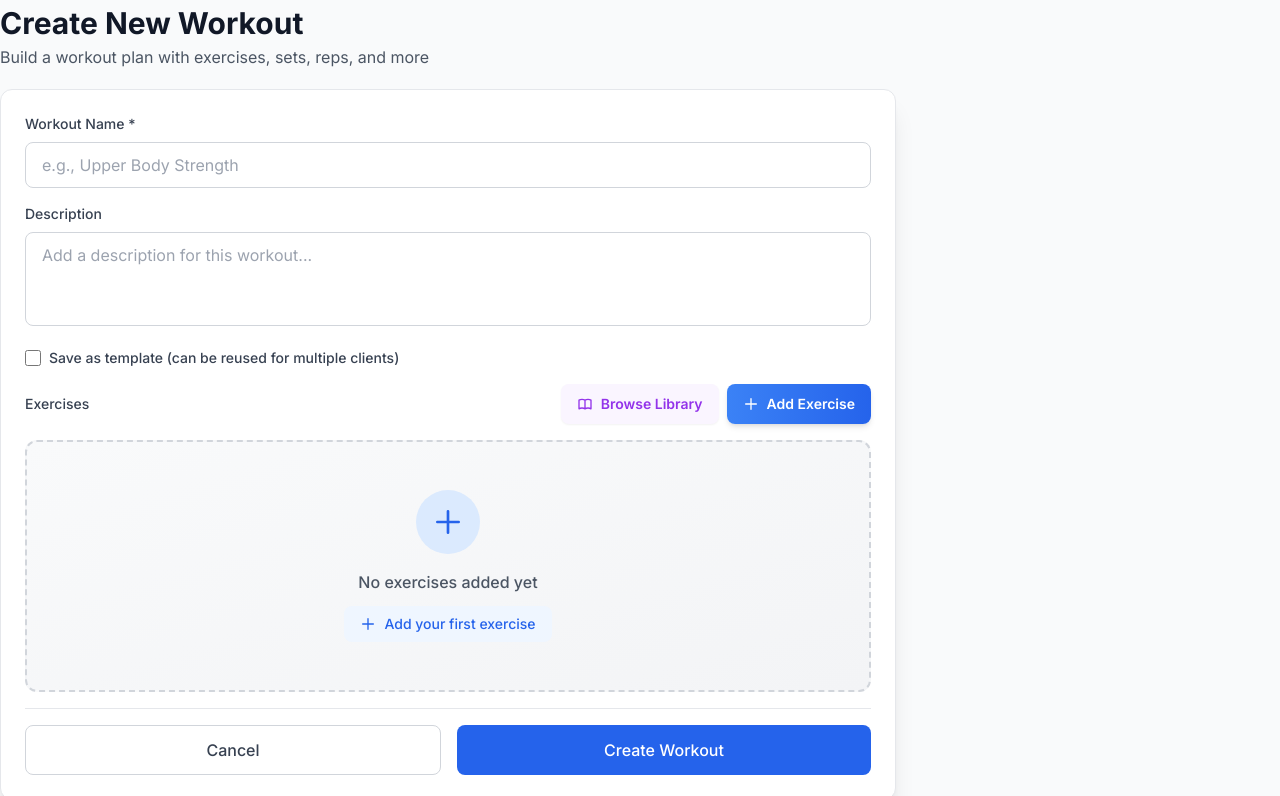
Scenario: NewWorkoutForm › should require workout name and show validation error
(page scrolled)
Check: the heading "Create New Workout" is shown, box [0,5,303,41]
Check: the field labelled "Workout Name *" is shown, box [25,142,871,188]
# Test validation
Step 1. Click the button "Create Workout" → point(664, 750), box [457,725,871,775]
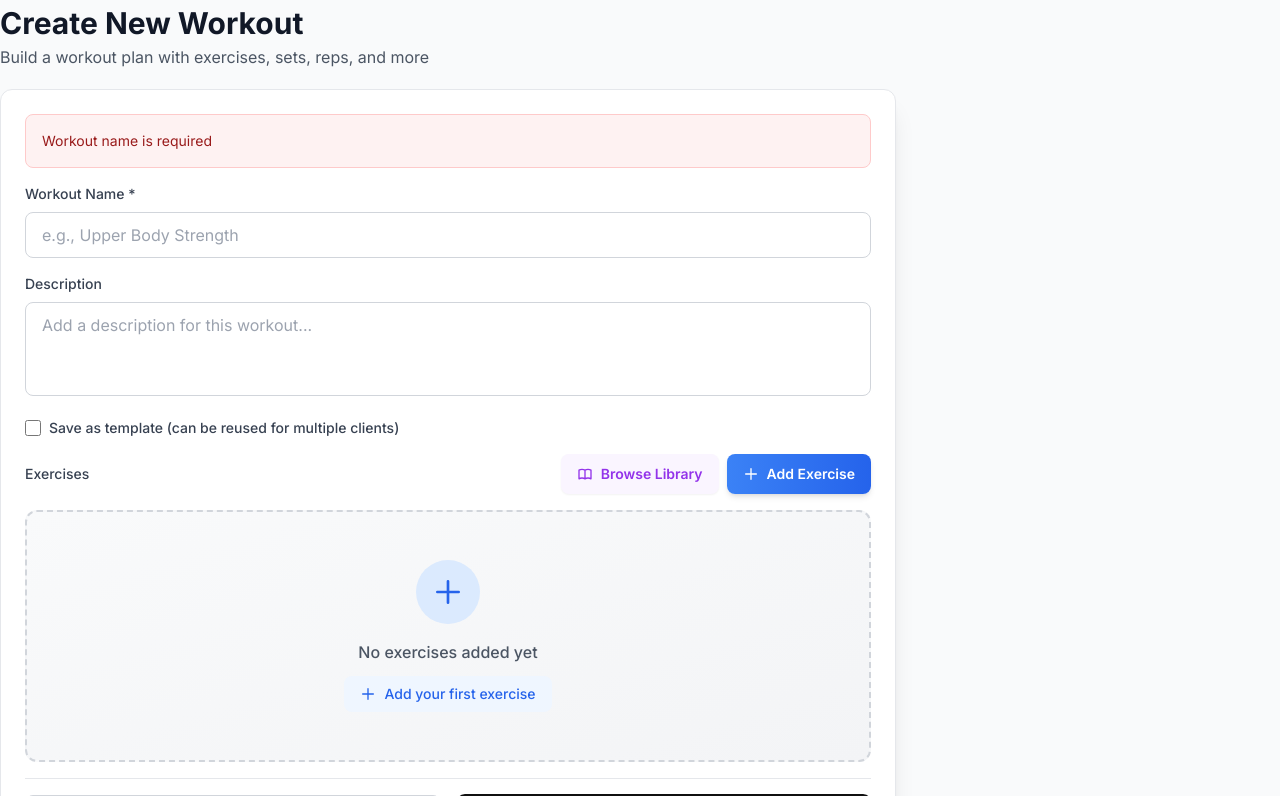
Check: the text "Workout name is required" is shown, box [42,132,212,149]
